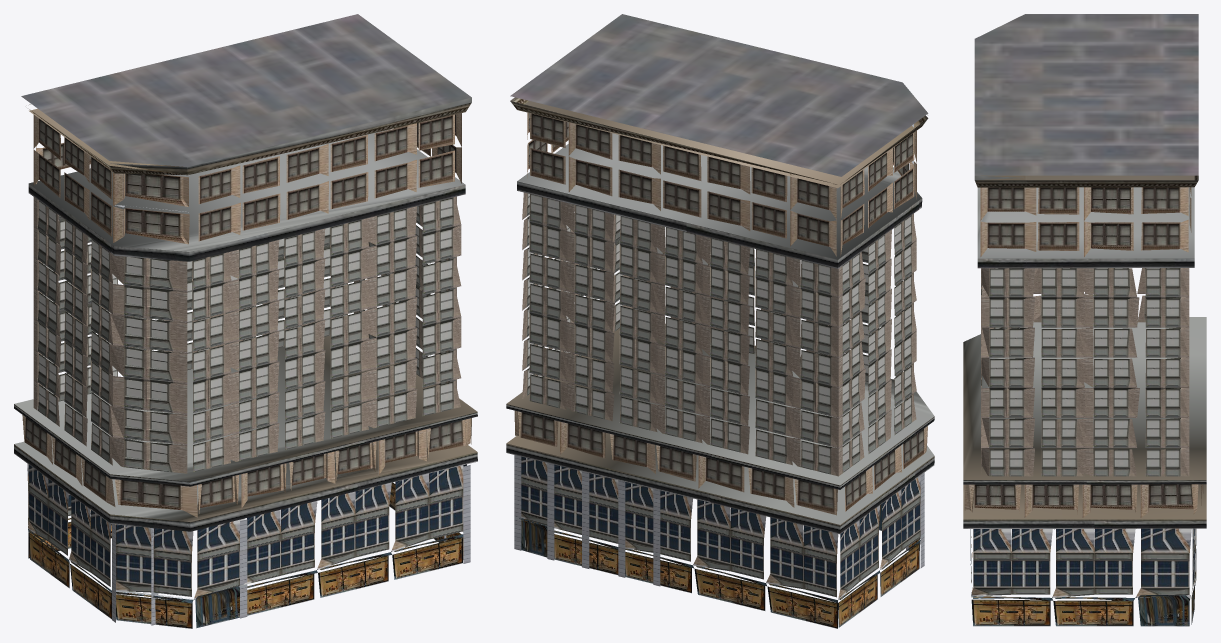
The picture shows the model from 3 angles, left to right: view 1: azimuth 30°, elevation 25°; view 2: azimuth 150°, elevation 25°; view 3: azimuth 270°, elevation 25°; orthographic projection.
Bounding box in the file's own units: 0.2544 × 0.3307 × 0.1608.
1 material, 1 textured.
